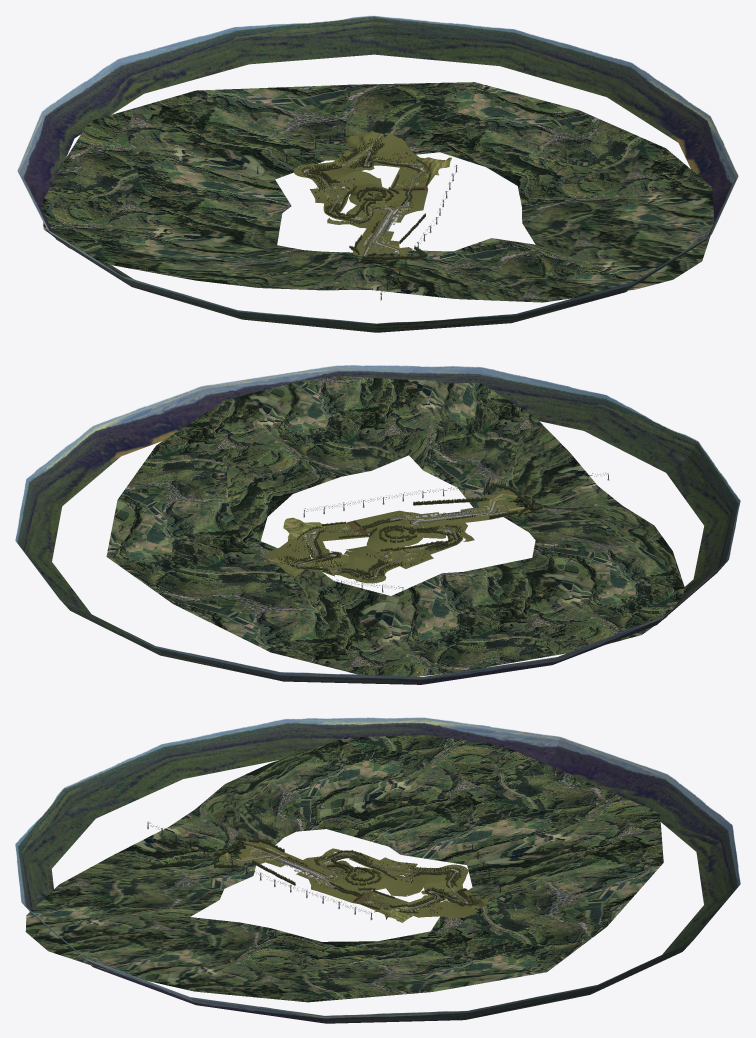
Rendered from kleine_nordschleife_1975_layout.glb.
The picture shows the model from 3 angles, top to bottom: view 1: azimuth 30°, elevation 25°; view 2: azimuth 150°, elevation 25°; view 3: azimuth 270°, elevation 25°; orthographic projection. The views are drawn at different scales.
Visible parts, largest first — view 1: kleine_nordschleife_0, kleine_nordschleife_tree_2; view 2: kleine_nordschleife_0, kleine_nordschleife_tree_2; view 3: kleine_nordschleife_0, kleine_nordschleife_tree_2.
Boxes of the visible parts, box(x1,y1,x2,y2) form: kleine_nordschleife_0: box(17, 16, 738, 332); kleine_nordschleife_tree_2: box(296, 138, 430, 262); kleine_nordschleife_0: box(15, 365, 740, 684); kleine_nordschleife_tree_2: box(278, 483, 542, 582); kleine_nordschleife_0: box(15, 717, 740, 1023); kleine_nordschleife_tree_2: box(213, 836, 478, 913).
Size of what is drawn, in the model's own units: 1396 by 64.39 by 1430.
99 materials, 99 textured.
